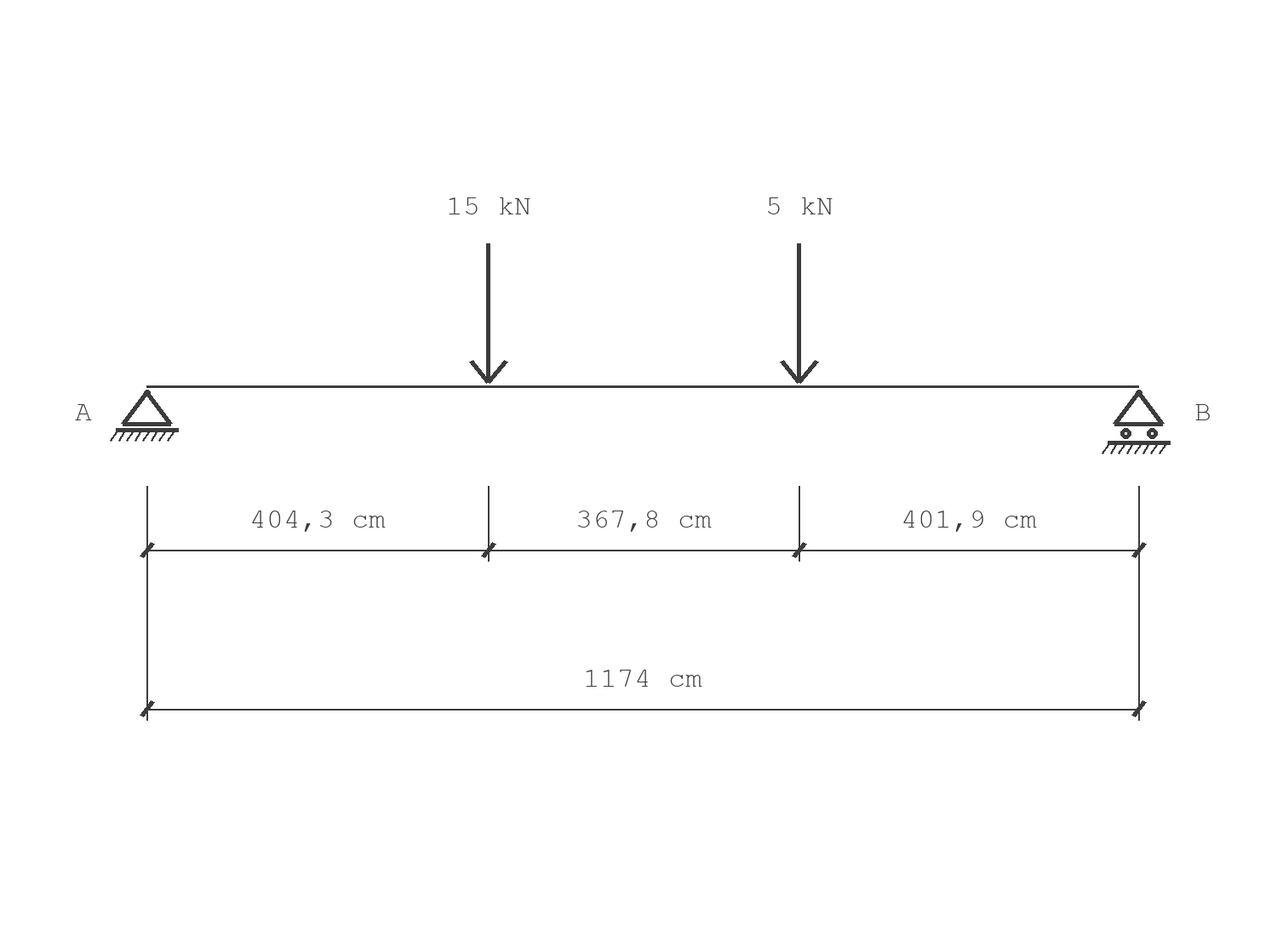pin_support: (110, 390, 179, 442)
point_load: (469, 243, 508, 384), (780, 243, 819, 384)
roller_support: (1102, 390, 1171, 454)
